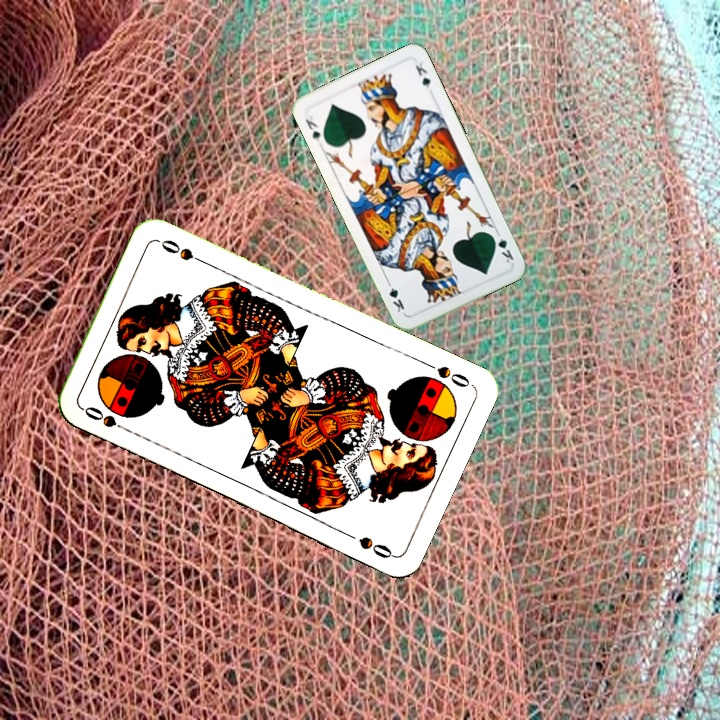GK: (488, 227, 516, 265), (301, 110, 327, 145)
SO: (419, 357, 475, 391), (78, 402, 133, 436)
